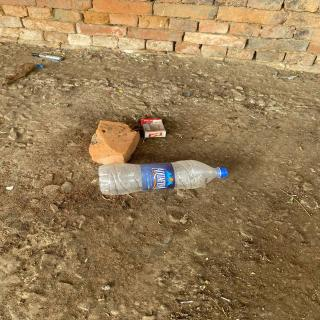Plastic-bottle: (95, 158, 233, 198)
